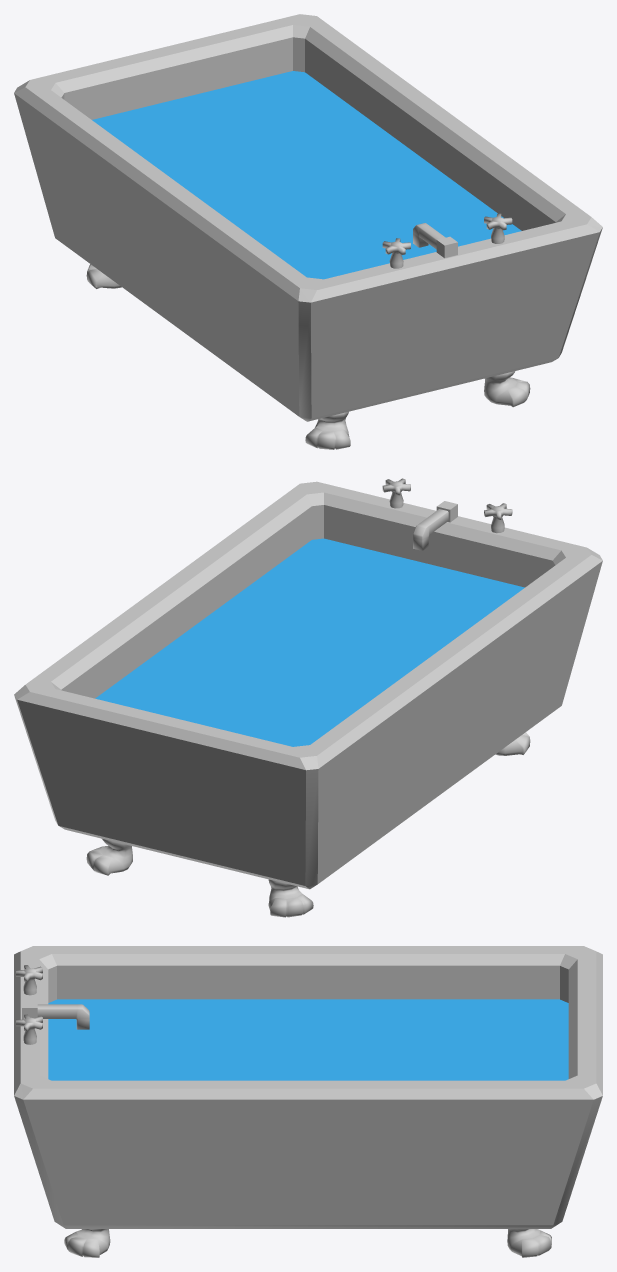
The model's file is BathTub.FBX.
3 views of the same model, one above another, from view 1: azimuth 30°, elevation 25°; view 2: azimuth 150°, elevation 25°; view 3: azimuth 270°, elevation 25° (orthographic).
Parts seen in each view (by area): view 1: BathTub, Water; view 2: BathTub, Water; view 3: BathTub, Water.
Boxes of the visible parts, box(x1,y1,x2,y2) form: BathTub: box(14, 14, 602, 449); Water: box(92, 71, 521, 279); BathTub: box(14, 478, 602, 917); Water: box(95, 538, 524, 746); BathTub: box(14, 946, 602, 1257); Water: box(48, 999, 568, 1080).
Bounding box in the file's own units: 90.27 × 59.14 × 151.
